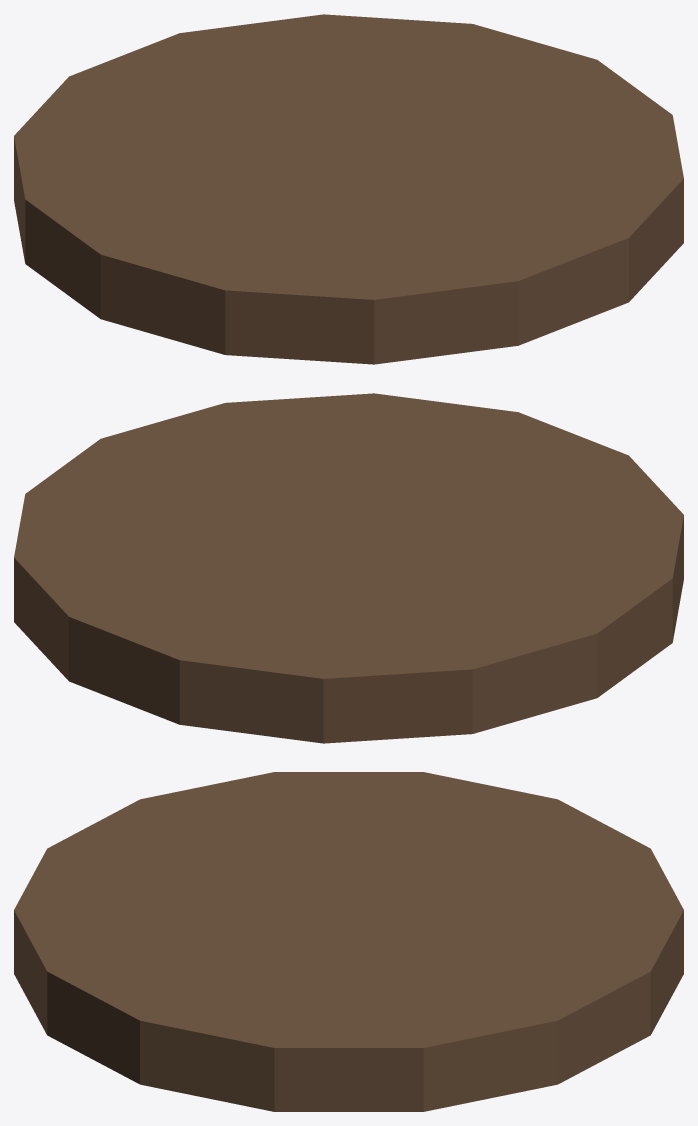
The model's file is mug_food.glb.
3 renders of one model, top to bottom at view 1: azimuth 30°, elevation 25°; view 2: azimuth 150°, elevation 25°; view 3: azimuth 270°, elevation 25°, orthographic.
Parts seen in each view (by area): view 1: MugFood; view 2: MugFood; view 3: MugFood.
Part boxes in pixels (left/top/right/bottom): MugFood: left=14, top=14, right=683, bottom=364; MugFood: left=14, top=393, right=683, bottom=743; MugFood: left=14, top=772, right=683, bottom=1111.
Size of the model in its own units: 0.0741 by 0.008 by 0.076.
